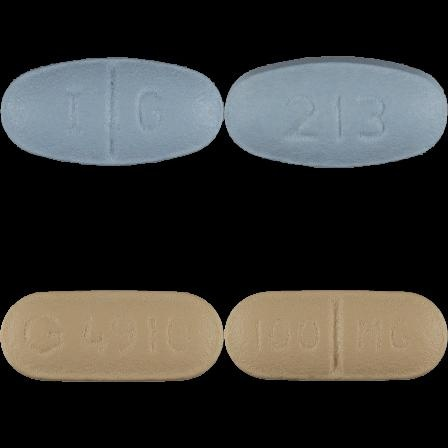53808-0579: (0, 0, 224, 224)
